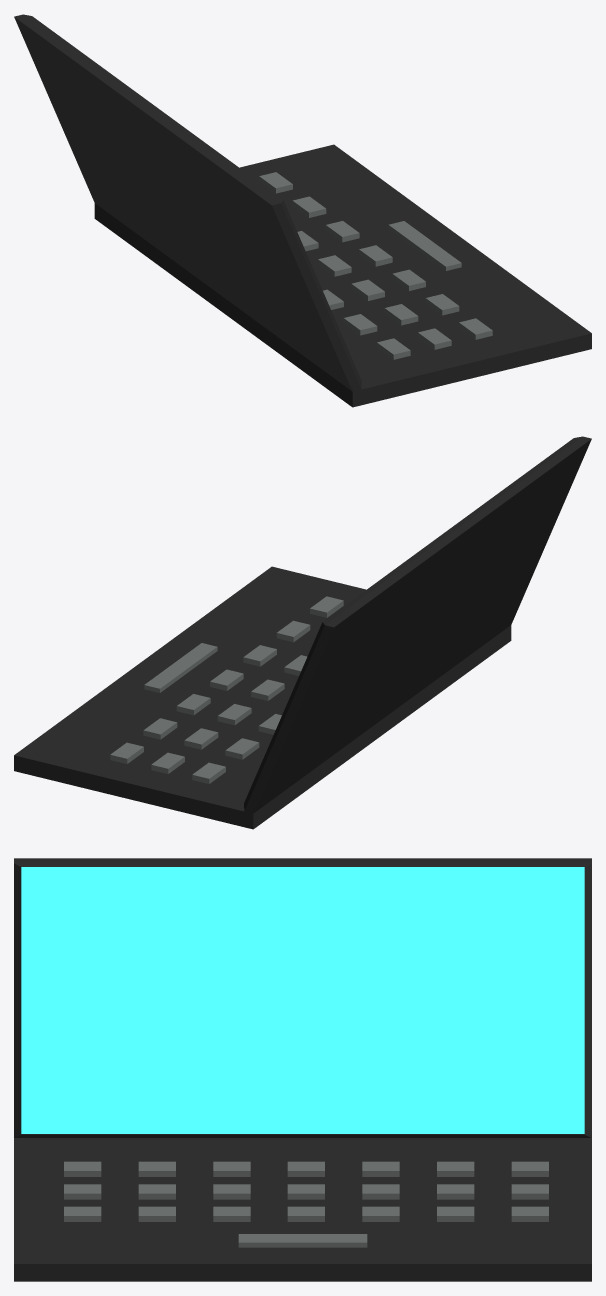
The model's file is LaptopPrefab2.fbx.
3 renders of one model, top to bottom at view 1: azimuth 30°, elevation 25°; view 2: azimuth 150°, elevation 25°; view 3: azimuth 270°, elevation 25°, orthographic. The views are drawn at different scales.
Visible parts, largest first — view 1: Cube, Cube.001, Cube.002; view 2: Cube, Cube.001, Cube.002; view 3: Cube, Cube.001, Cube.002.
Part boxes in pixels (bbox=[...]): Cube: bbox=[14, 14, 591, 407]; Cube.001: bbox=[259, 172, 492, 359]; Cube.002: bbox=[388, 221, 461, 270]; Cube: bbox=[14, 436, 591, 829]; Cube.001: bbox=[110, 596, 343, 783]; Cube.002: bbox=[144, 643, 217, 692]; Cube: bbox=[14, 858, 591, 1281]; Cube.001: bbox=[64, 1161, 548, 1221]; Cube.002: bbox=[238, 1234, 367, 1247].
Size of the model in its own units: 278 by 184 by 388.
